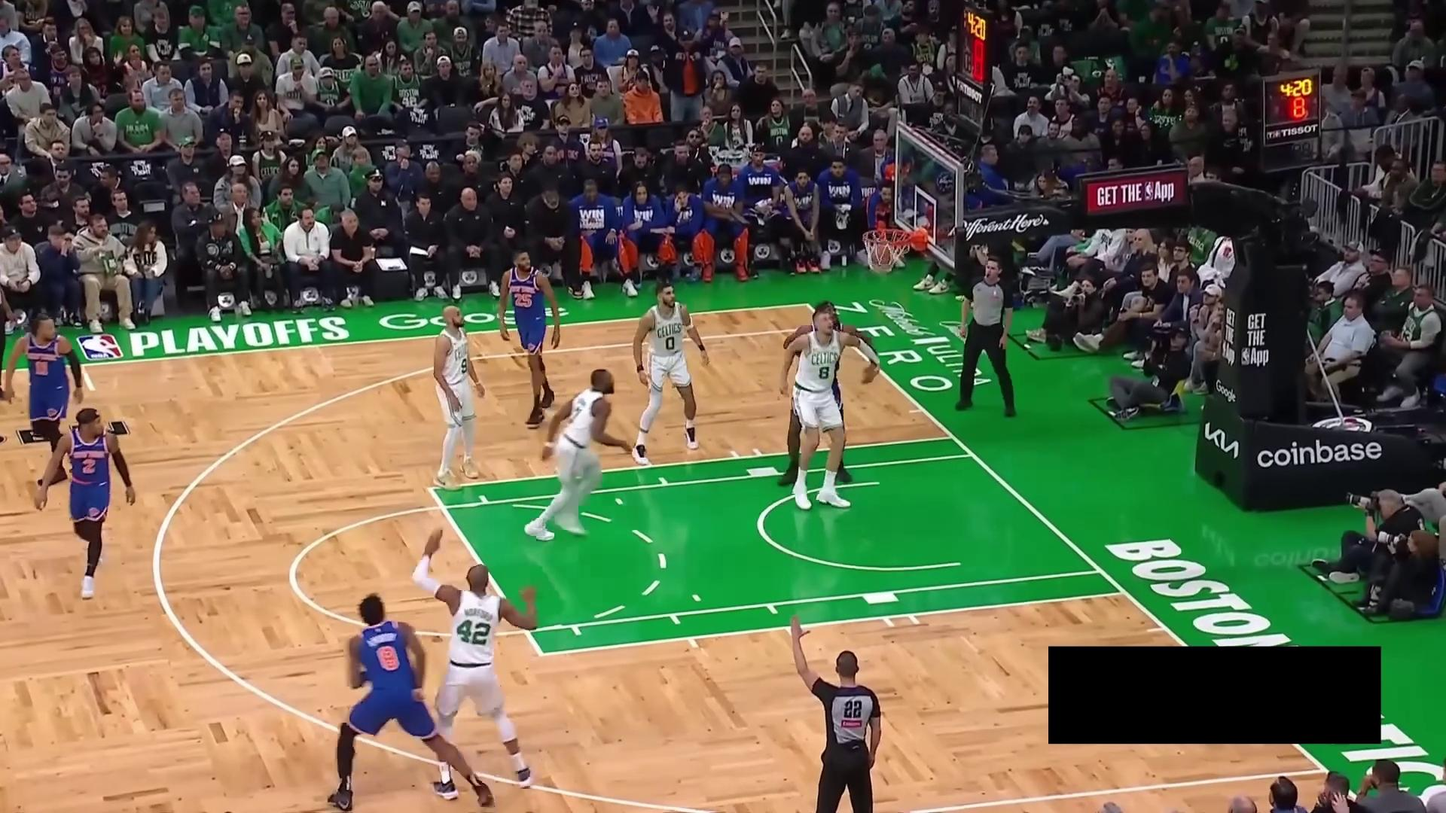ball: (868, 245, 897, 273)
ball-in-basket: (862, 227, 913, 274)
number: (456, 620, 491, 644), (377, 644, 399, 671), (512, 291, 533, 308), (81, 457, 97, 475), (816, 364, 832, 382), (568, 405, 582, 425), (35, 360, 50, 376), (664, 334, 676, 352), (459, 358, 468, 375)
player: (325, 593, 494, 812), (410, 526, 540, 790), (778, 308, 880, 511), (34, 406, 136, 600), (523, 367, 633, 543), (776, 301, 879, 487), (630, 280, 711, 467), (2, 309, 85, 486), (497, 247, 562, 427), (431, 304, 487, 492)
referee: (790, 614, 883, 813), (954, 252, 1018, 418), (0, 239, 17, 419)
rim: (862, 227, 913, 245)
